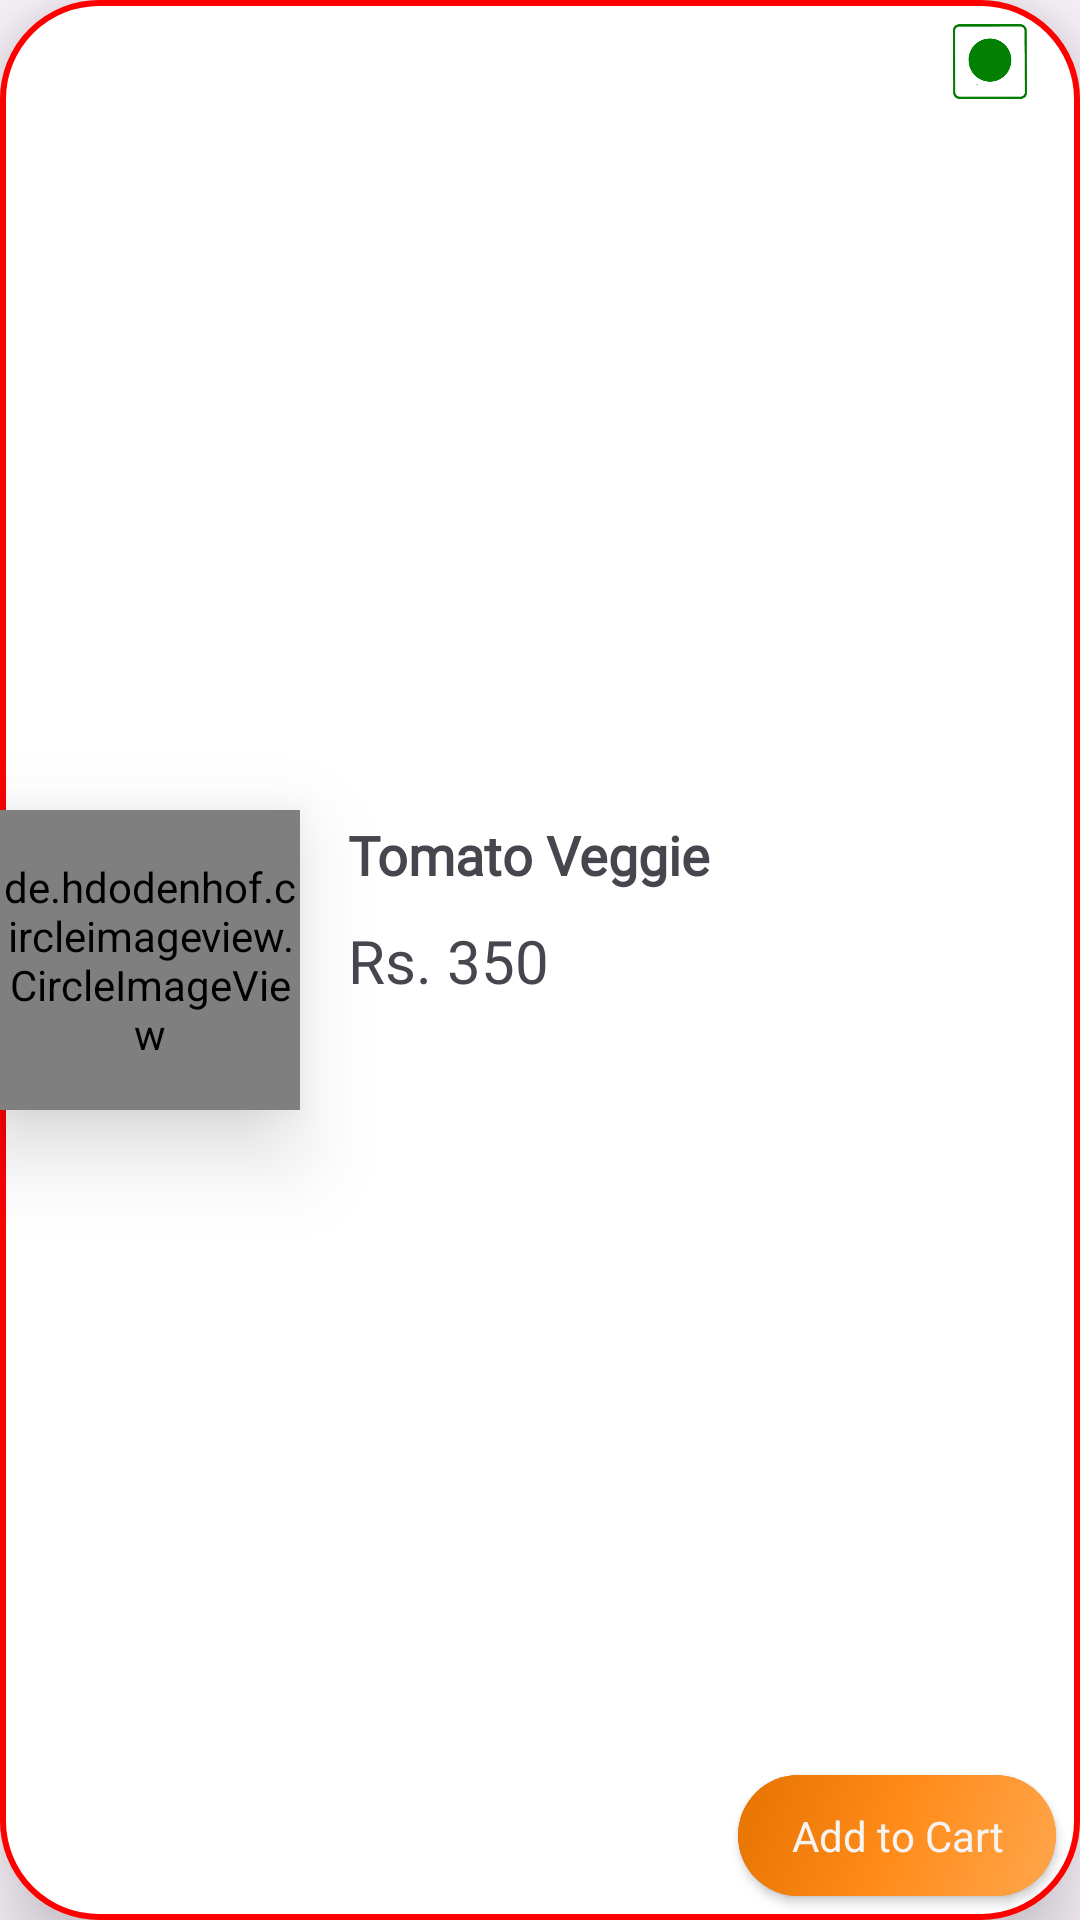

Named icons in this screenshot (1080x1920) and their bounding boxes, bbox(x1, y1, x2, y2):
veg: bbox(953, 24, 1027, 99)
